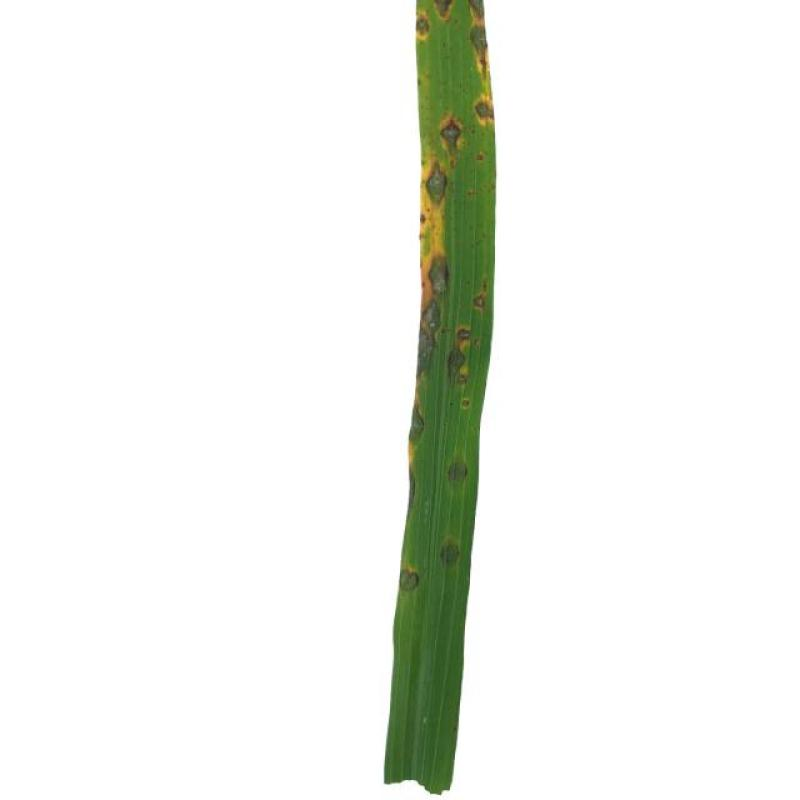Leaf_Blast: (412, 296, 450, 389), (453, 322, 472, 397), (425, 159, 450, 211), (424, 252, 452, 298), (436, 114, 464, 158), (474, 0, 482, 79), (440, 539, 460, 570), (476, 95, 494, 129), (412, 12, 434, 38), (432, 1, 458, 21), (447, 459, 464, 485), (473, 288, 485, 324), (401, 570, 419, 590)
